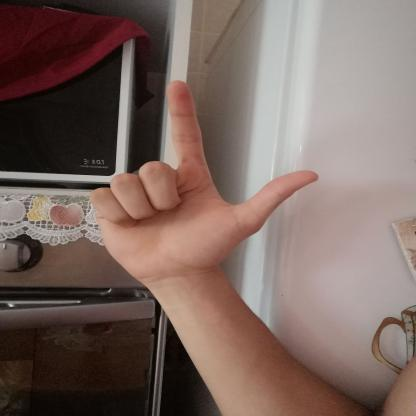LAAM: (76, 70, 332, 292)
